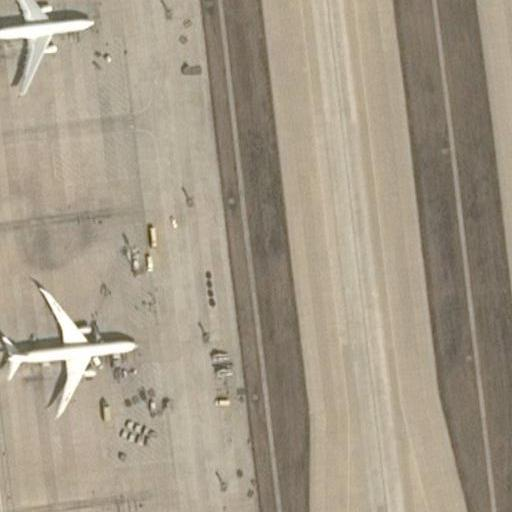Aircraft: (0, 262, 141, 410), (0, 0, 95, 89)
